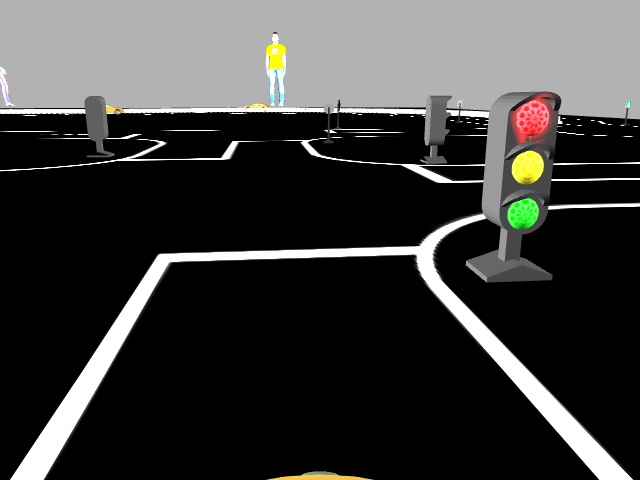TrafficLight: (480, 87, 559, 232)
